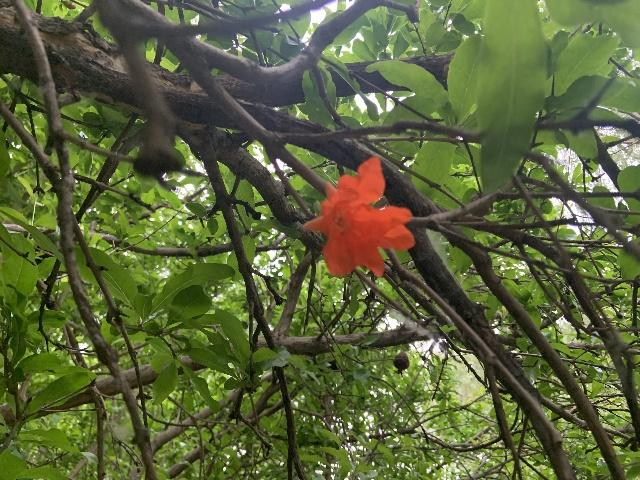flower: (302, 156, 415, 278)
